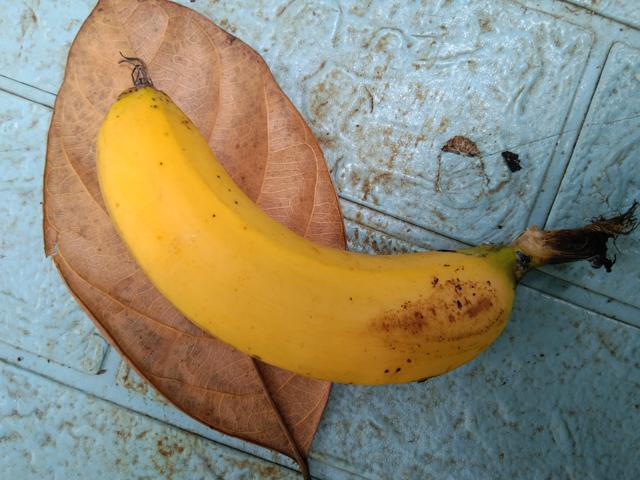freshripe: (83, 81, 523, 397)
